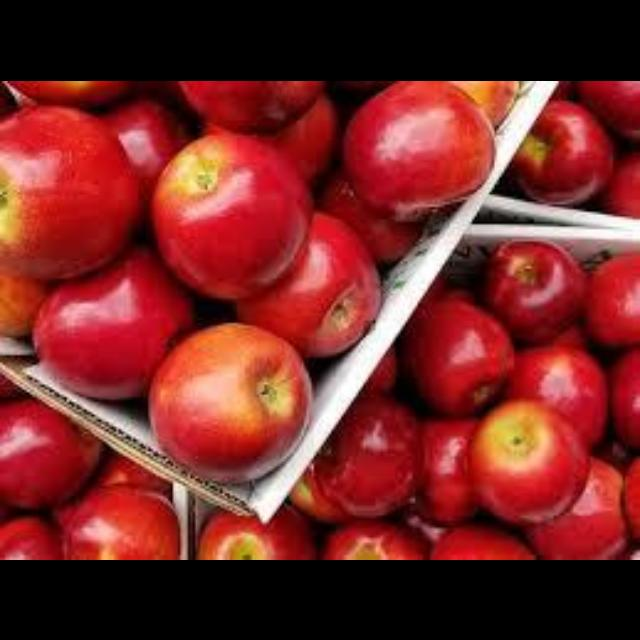apple: (151, 129, 311, 297), (148, 322, 311, 480), (32, 246, 193, 399), (0, 105, 141, 278), (343, 80, 492, 218), (237, 211, 378, 354), (469, 399, 588, 522), (400, 293, 512, 414), (314, 394, 420, 515), (0, 399, 99, 507), (512, 100, 613, 204), (504, 344, 605, 446), (482, 241, 583, 342), (526, 458, 625, 557), (319, 169, 420, 263), (99, 97, 185, 199), (64, 485, 178, 557), (257, 95, 336, 184), (178, 80, 321, 129), (255, 95, 336, 181), (418, 419, 477, 522), (198, 505, 314, 557), (586, 253, 638, 344), (576, 80, 638, 139), (7, 80, 141, 105), (608, 347, 638, 448), (205, 120, 220, 132)
